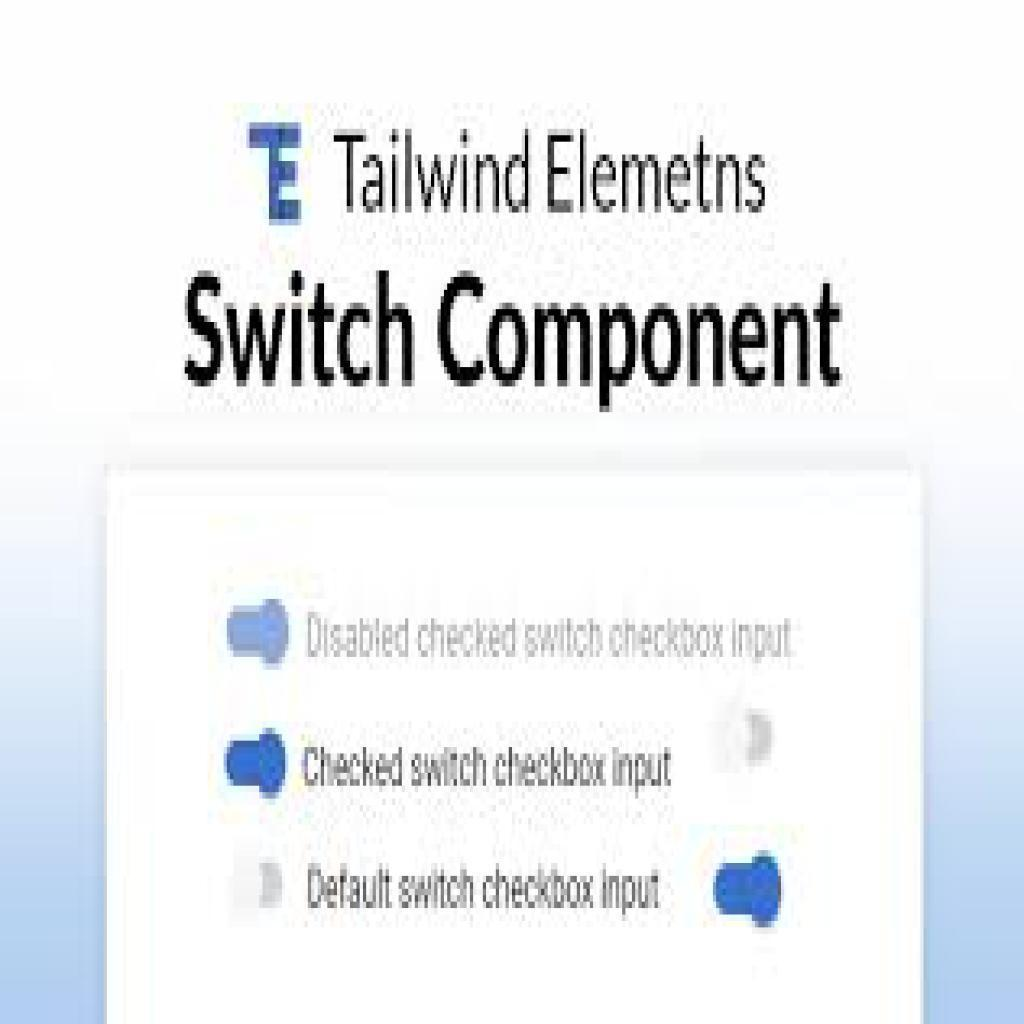switch: (705, 843, 794, 936), (220, 716, 294, 808), (227, 587, 295, 675), (712, 704, 788, 774), (221, 854, 291, 917)
